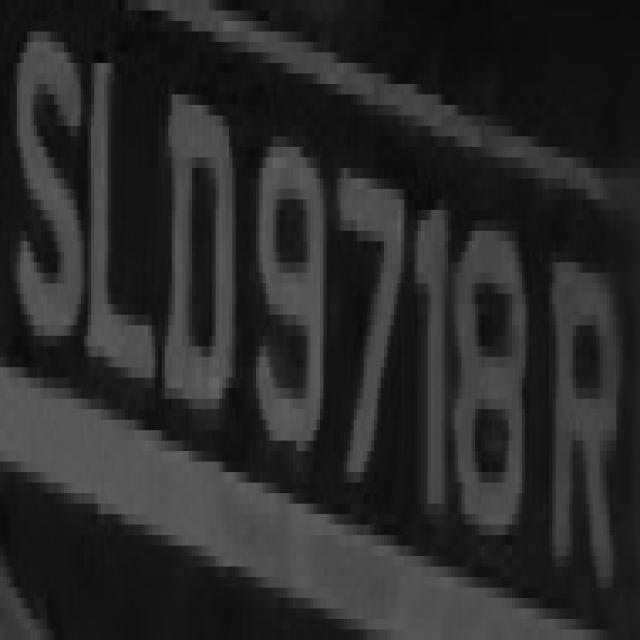1: (408, 158, 454, 546)
7: (323, 147, 408, 524)
8: (441, 178, 519, 577)
9: (246, 95, 330, 482)
D: (148, 95, 232, 472)
L: (84, 52, 158, 398)
R: (539, 220, 623, 619)
S: (10, 21, 84, 367)
